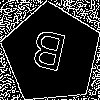B: (26, 29, 68, 81)
